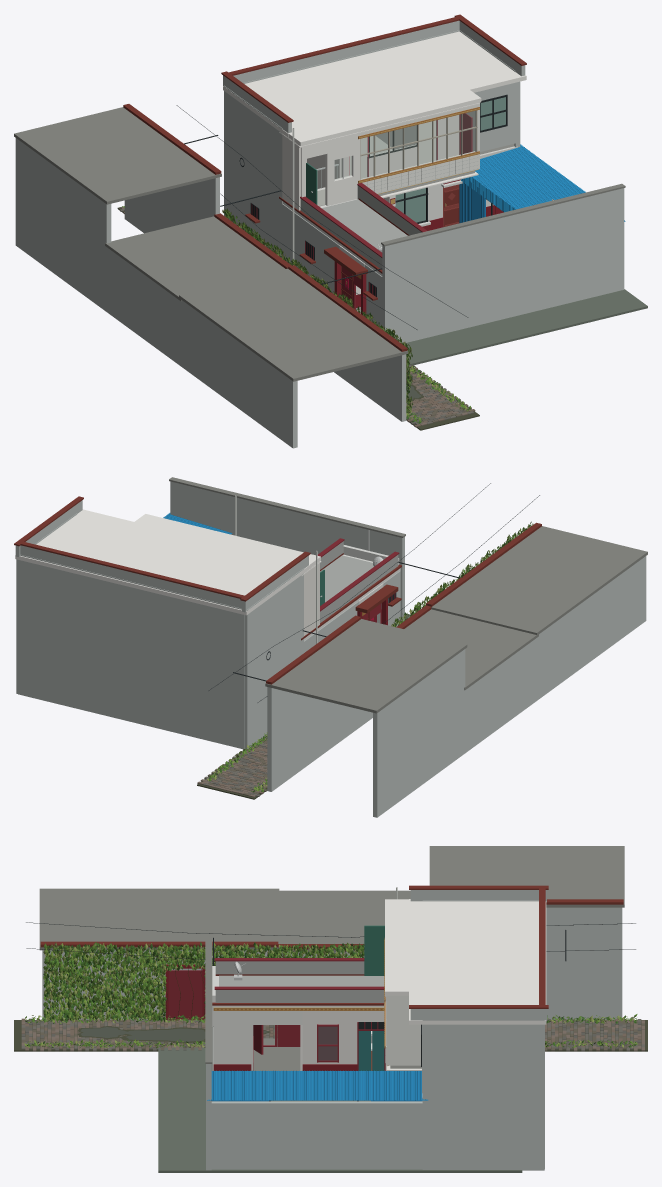
Rendered from house.glb.
3 views of the same model, one above another, from view 1: azimuth 30°, elevation 25°; view 2: azimuth 150°, elevation 25°; view 3: azimuth 270°, elevation 25° (orthographic). The views are drawn at different scales.
Visible parts, largest first — view 1: ::V | mottled grey exterior render, ::V | flat concrete roof, ::V | Roof clean white ceiling, ::V | red coping, ::V | damp worn courtyard concrete, ::V | blue corrugated steel, ::V | steel raised folds, ::V | Interior warm white plaster, ::V | Interior clear balcony glazing, ::V | Roof terrace concrete, ::V | Interior ivory ceramic, ::V | dark window frames (+10 smaller); view 2: ::V | mottled grey exterior render, ::V | flat concrete roof, ::V | Roof clean white ceiling, ::V | red coping, ::V | Roof terrace concrete, ::V | Interior warm white plaster, ::V | aged white courtyard plaster, ::V | dark window frames, ::V | Roof burgundy timber, ::V | paving brick 0, ::V | paving brick 3, ::V | paving brick 4 (+2 smaller); view 3: ::V | mottled grey exterior render, ::V | flat concrete roof, ::V | Roof clean white ceiling, ::V | damp worn courtyard concrete, ::V | blue corrugated steel, ::V | Roof terrace concrete, ::V | red coping, ::V | leaf 1, ::V | leaf 2, ::V | leaf 4, ::V | leaf 0, ::V | leaf 3 (+20 smaller).
Part boxes in pixels (x1,y1,x2,y2): ::V | mottled grey exterior render: (15,20,624,448); ::V | flat concrete roof: (14,107,625,381); ::V | Roof clean white ceiling: (223,31,526,294); ::V | red coping: (123,14,526,351); ::V | damp worn courtyard concrete: (405,289,647,365); ::V | blue corrugated steel: (459,145,625,223); ::V | steel raised folds: (461,144,624,220); ::V | Interior warm white plaster: (282,115,459,210); ::V | Interior clear balcony glazing: (335,111,475,179); ::V | Roof terrace concrete: (300,185,421,269); ::V | Interior ivory ceramic: (358,102,479,193); ::V | dark window frames: (176,94,507,329); ::V | mottled grey exterior render: (15,481,646,817); ::V | flat concrete roof: (169,477,647,713); ::V | Roof clean white ceiling: (15,509,321,615); ::V | red coping: (14,496,541,684); ::V | Roof terrace concrete: (320,541,398,622); ::V | Interior warm white plaster: (304,561,319,635); ::V | aged white courtyard plaster: (304,545,400,640); ::V | dark window frames: (208,483,539,702); ::V | Roof burgundy timber: (317,538,399,611); ::V | paving brick 0: (207,736,267,795); ::V | paving brick 3: (197,738,267,797); ::V | paving brick 4: (212,742,267,794); ::V | mottled grey exterior render: (42,890,622,1170); ::V | flat concrete roof: (39,846,624,1070); ::V | Roof clean white ceiling: (300,899,546,1070); ::V | damp worn courtyard concrete: (158,1047,522,1172); ::V | blue corrugated steel: (207,1071,428,1101); ::V | Roof terrace concrete: (215,961,384,1004); ::V | red coping: (40,885,623,1008); ::V | leaf 1: (25,942,637,1047); ::V | leaf 2: (24,942,637,1047); ::V | leaf 4: (25,942,635,1048); ::V | leaf 0: (26,942,637,1047); ::V | leaf 3: (25,942,636,1048).
Size of the model in its own units: 21.2 by 7.74 by 27.
